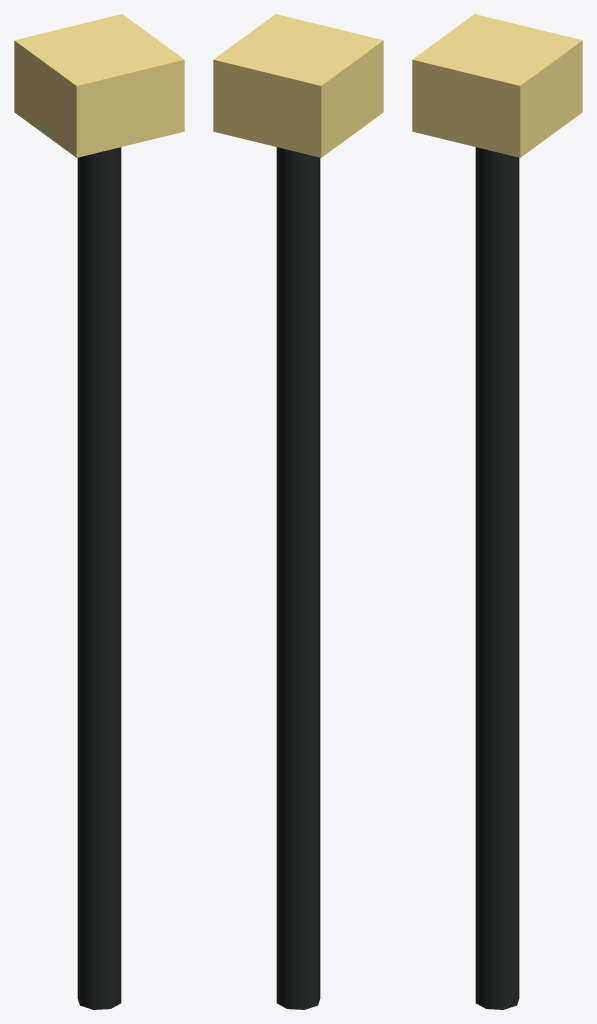
Rendered from lamp.glb.
The picture shows the model from 3 angles, left to right: view 1: azimuth 30°, elevation 25°; view 2: azimuth 150°, elevation 25°; view 3: azimuth 330°, elevation 25°; orthographic projection.
Parts seen in each view (by area): view 1: _MeshInstance3D_290, _MeshInstance3D_291; view 2: _MeshInstance3D_290, _MeshInstance3D_291; view 3: _MeshInstance3D_290, _MeshInstance3D_291.
Boxes of the visible parts, box(x1,y1,x2,y2) form: _MeshInstance3D_290: box(77, 147, 121, 1009); _MeshInstance3D_291: box(14, 14, 184, 157); _MeshInstance3D_290: box(276, 147, 320, 1009); _MeshInstance3D_291: box(213, 14, 383, 157); _MeshInstance3D_290: box(475, 147, 519, 1009); _MeshInstance3D_291: box(412, 14, 582, 157).
Bounding box in the file's own units: 0.55 × 4.62 × 0.55.
